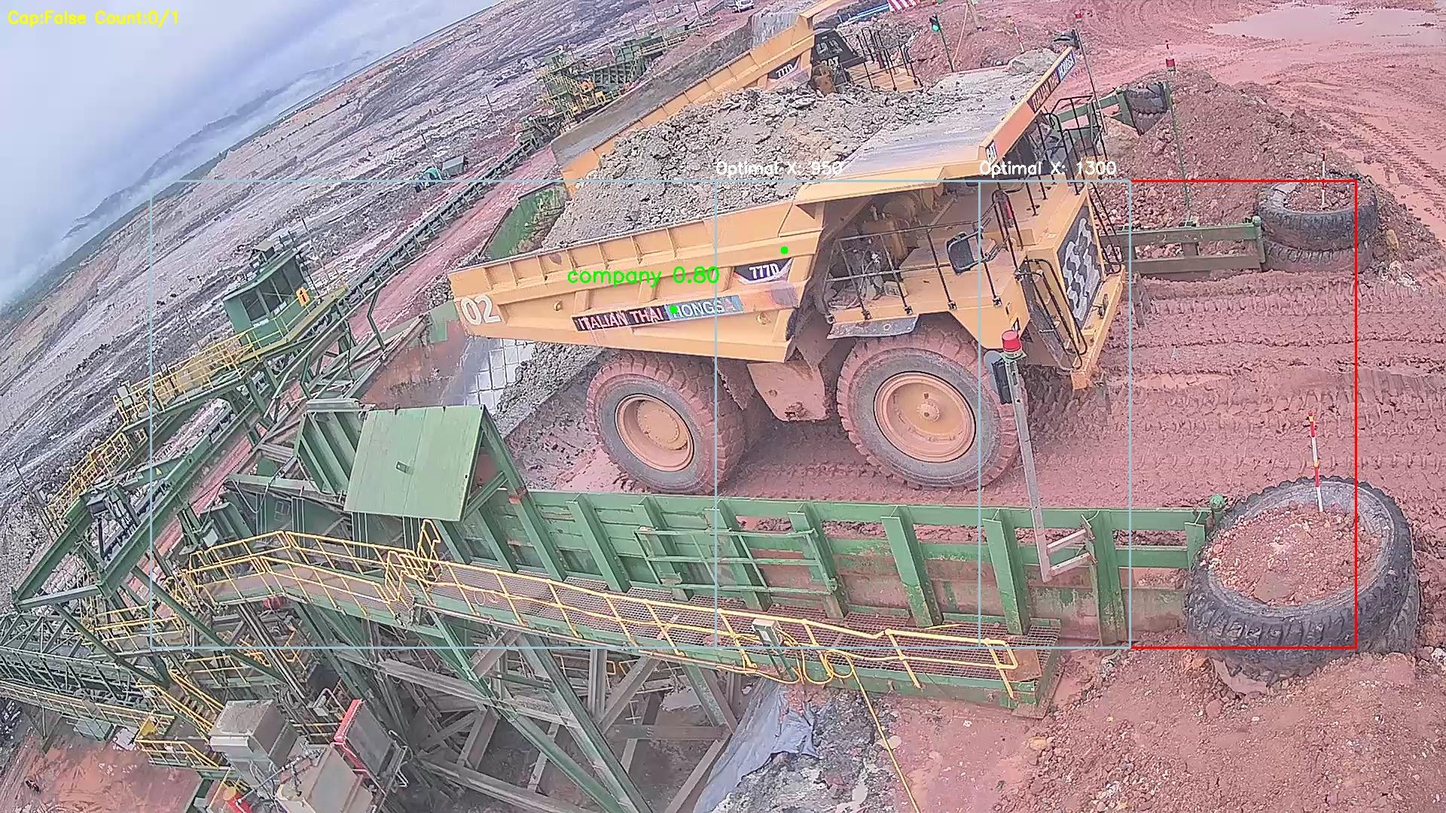company: (565, 289, 751, 333)
full_load: (615, 81, 867, 233)
mining_truck: (431, 44, 1119, 494)
tail_number: (455, 287, 512, 334)
truck_size: (724, 244, 797, 287)
